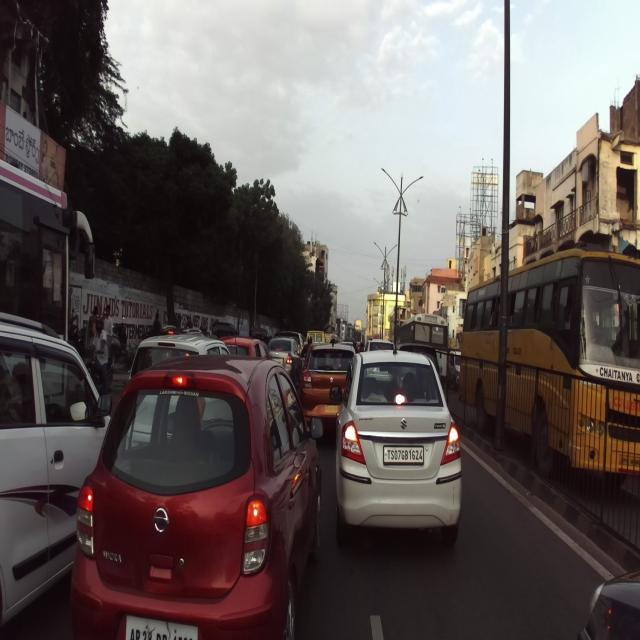bus: (462, 245, 640, 488), (0, 152, 96, 348)
car: (68, 354, 326, 640), (0, 306, 116, 639), (327, 348, 464, 541), (298, 342, 357, 434)
